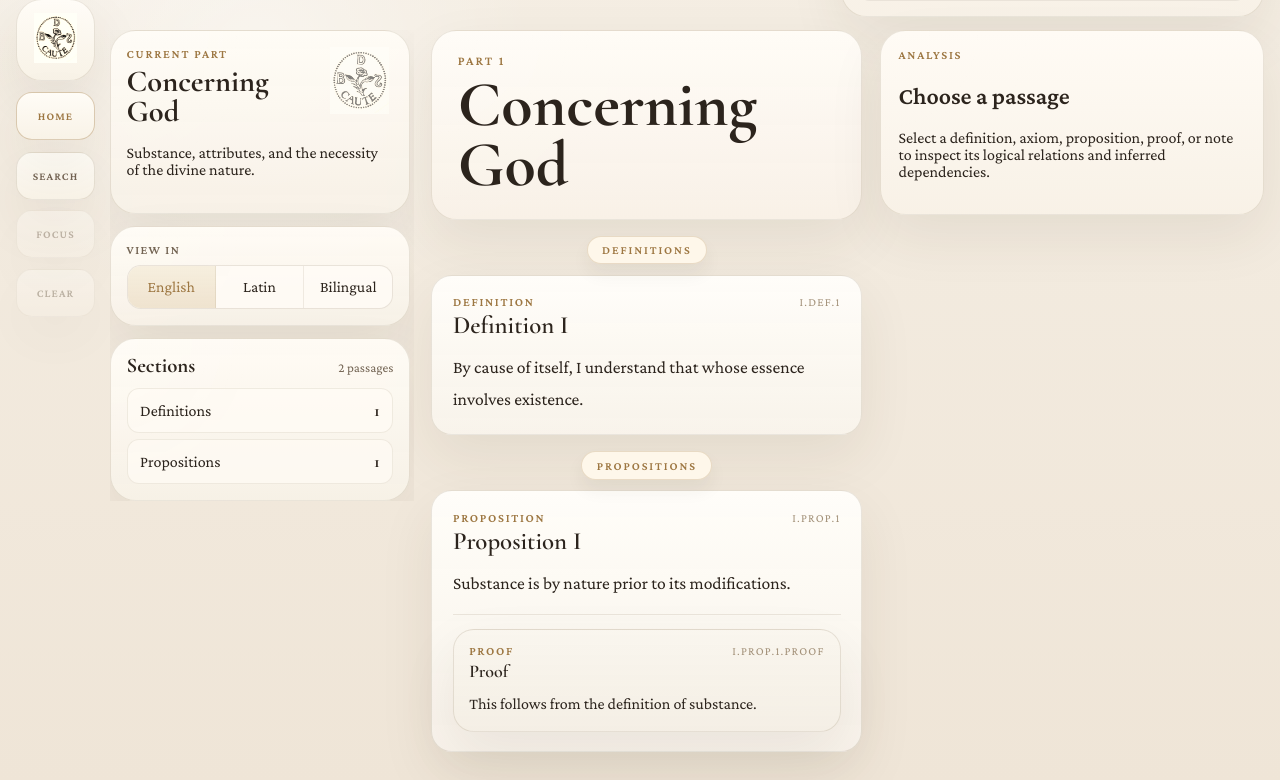
Scenario: navigates across parts from a relationship chip in the analysis panel
(page scrolled)
Step 1. Click the heading "Proposition I" → click(517, 541), box [453, 529, 581, 554]
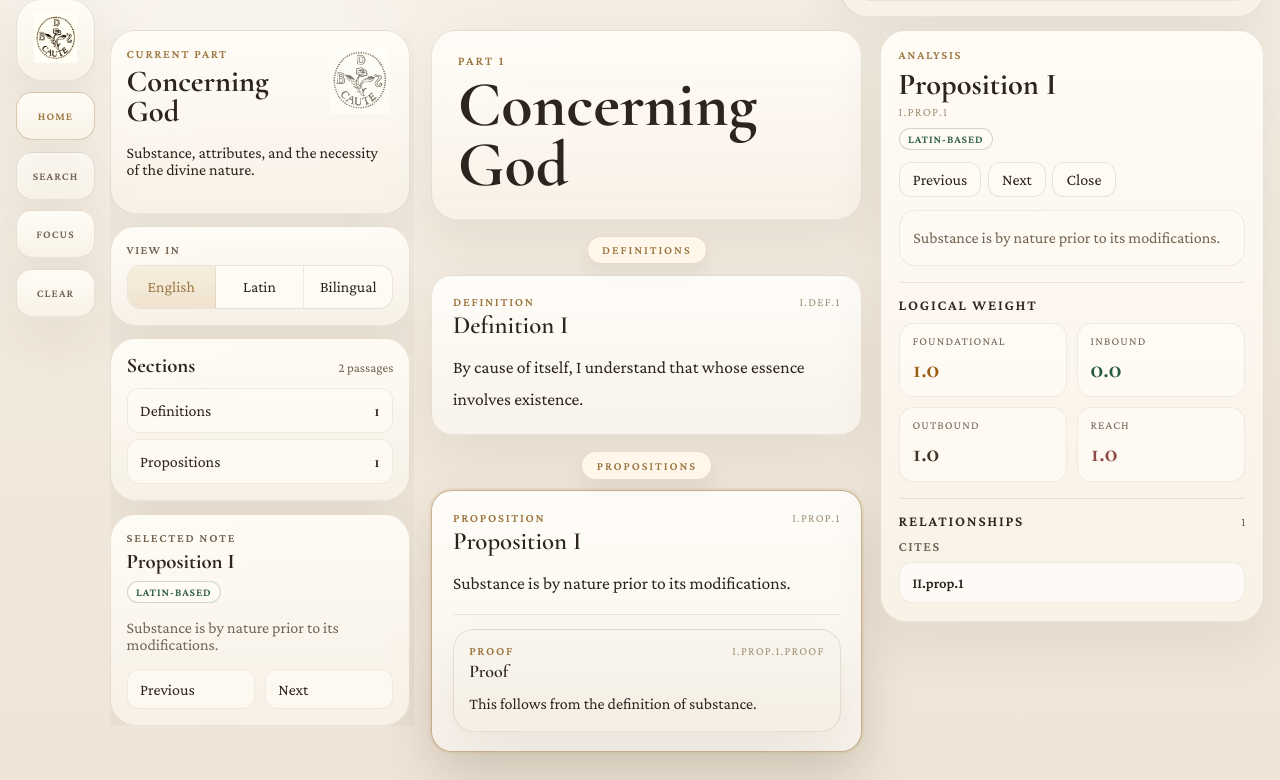
Step 2. Click the button "II.prop.1" → click(938, 583), box [899, 562, 1245, 603]
(page scrolled)
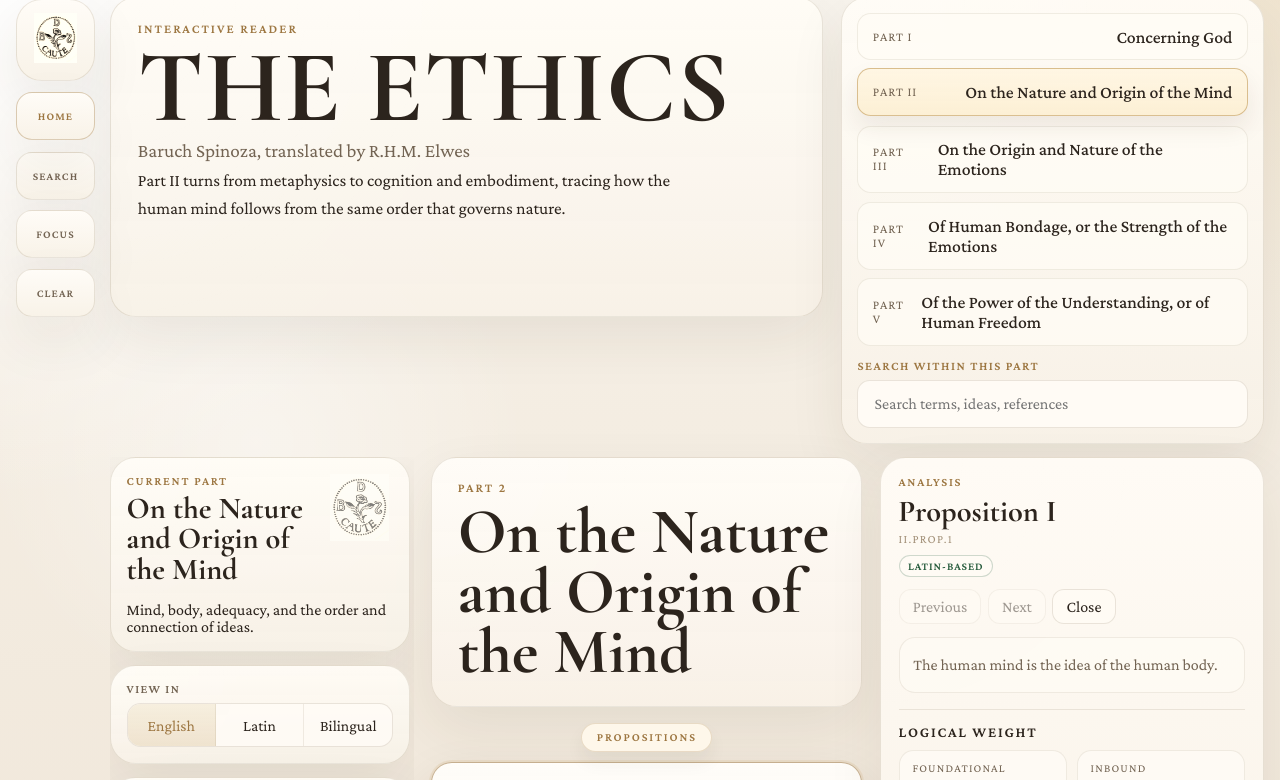
Expected: the button "Part II On the Nature and Origin of the Mind" is shown, [858, 68, 1248, 116]
Result: the text "II.prop.1" below "Analysis" is shown at [899, 532, 953, 546]
